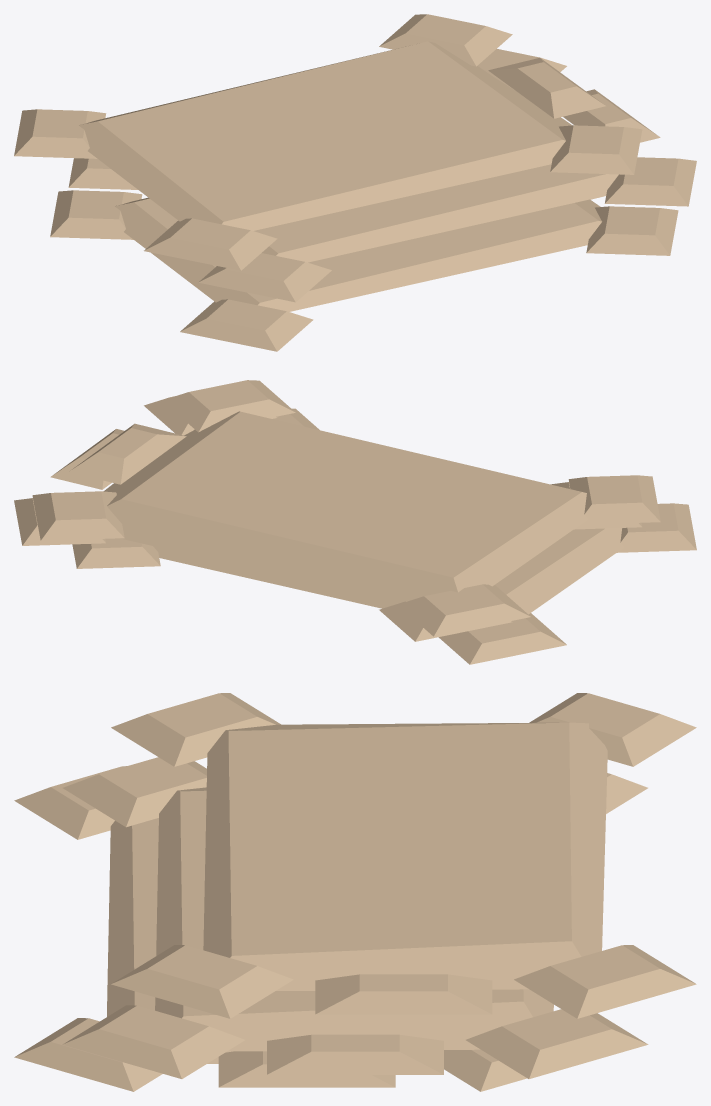
Rendered from item_070_goat_hide_m.glb.
3 views of the same model, one above another, from view 1: azimuth 30°, elevation 25°; view 2: azimuth 150°, elevation 25°; view 3: azimuth 270°, elevation 25° (orthographic). The views are drawn at different scales.
Visible parts, largest first — view 1: item_070_goat_hide_m; view 2: item_070_goat_hide_m; view 3: item_070_goat_hide_m.
Part boxes in pixels (x1,y1,x2,y2): item_070_goat_hide_m: (14, 14, 696, 351); item_070_goat_hide_m: (14, 380, 696, 664); item_070_goat_hide_m: (14, 693, 696, 1091).
Size of the model in its own units: 1.03 by 0.1402 by 0.8476.
